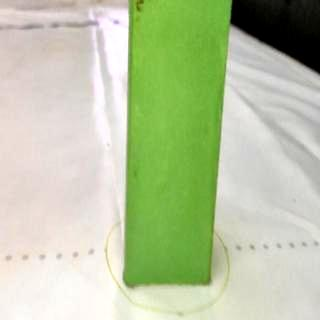greenbox: (122, 0, 235, 284)
